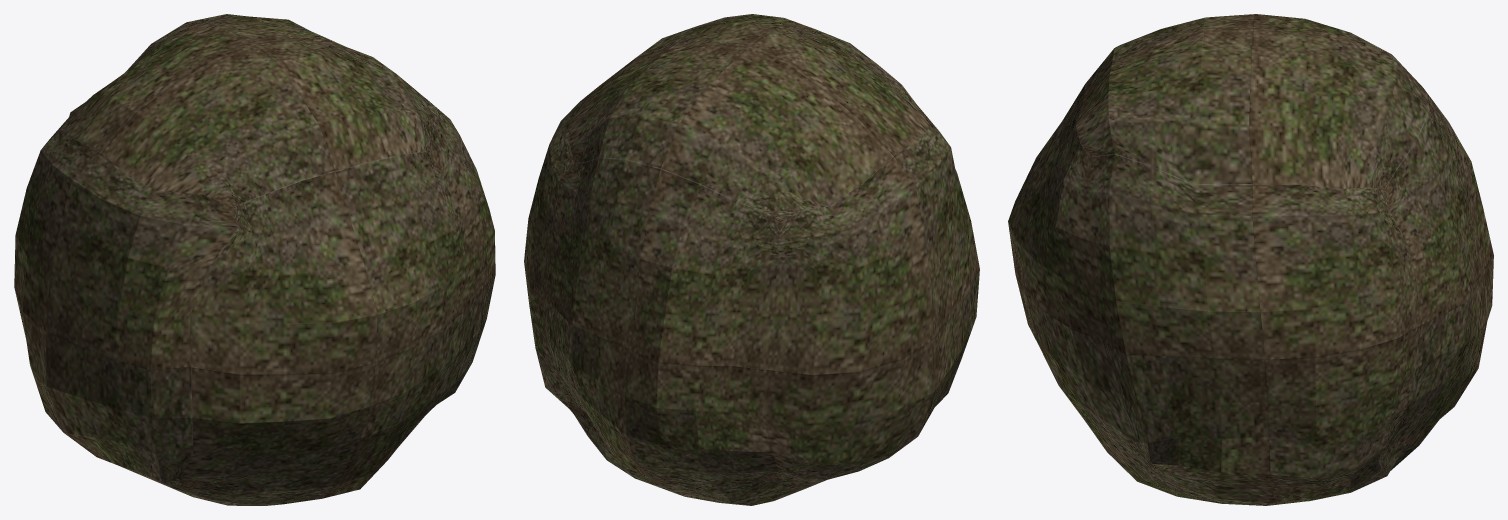
File: SM_EC_Rock_95.fbx
The picture shows the model from 3 angles, left to right: view 1: azimuth 30°, elevation 25°; view 2: azimuth 150°, elevation 25°; view 3: azimuth 270°, elevation 25°; orthographic projection. The views are drawn at different scales.
Parts seen in each view (by area): view 1: SM_EC_Rock_95; view 2: SM_EC_Rock_95; view 3: SM_EC_Rock_95.
Part boxes in pixels (x1=…): SM_EC_Rock_95: x1=14, y1=14, x2=495, y2=505; SM_EC_Rock_95: x1=524, y1=14, x2=979, y2=505; SM_EC_Rock_95: x1=1008, y1=14, x2=1493, y2=505.
Bounding box in the file's own units: 1.84 × 1.88 × 1.95.
